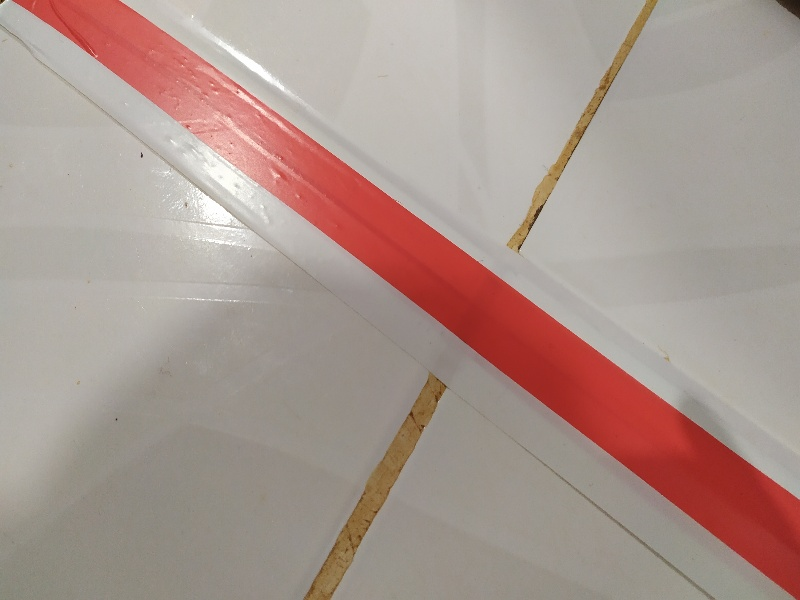faixa: (1, 2, 708, 598)
